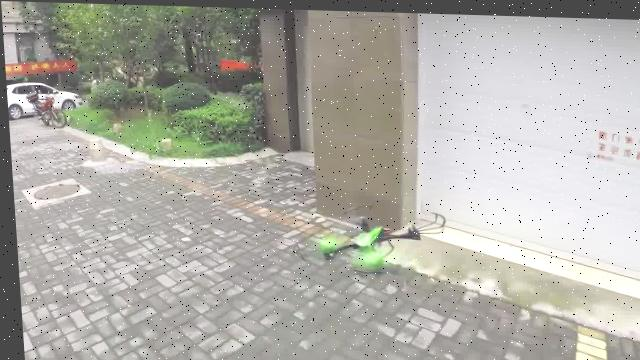drone: (220, 175, 512, 297)
